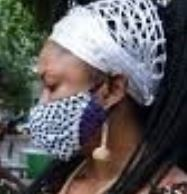with_facemask: (22, 89, 104, 162)
